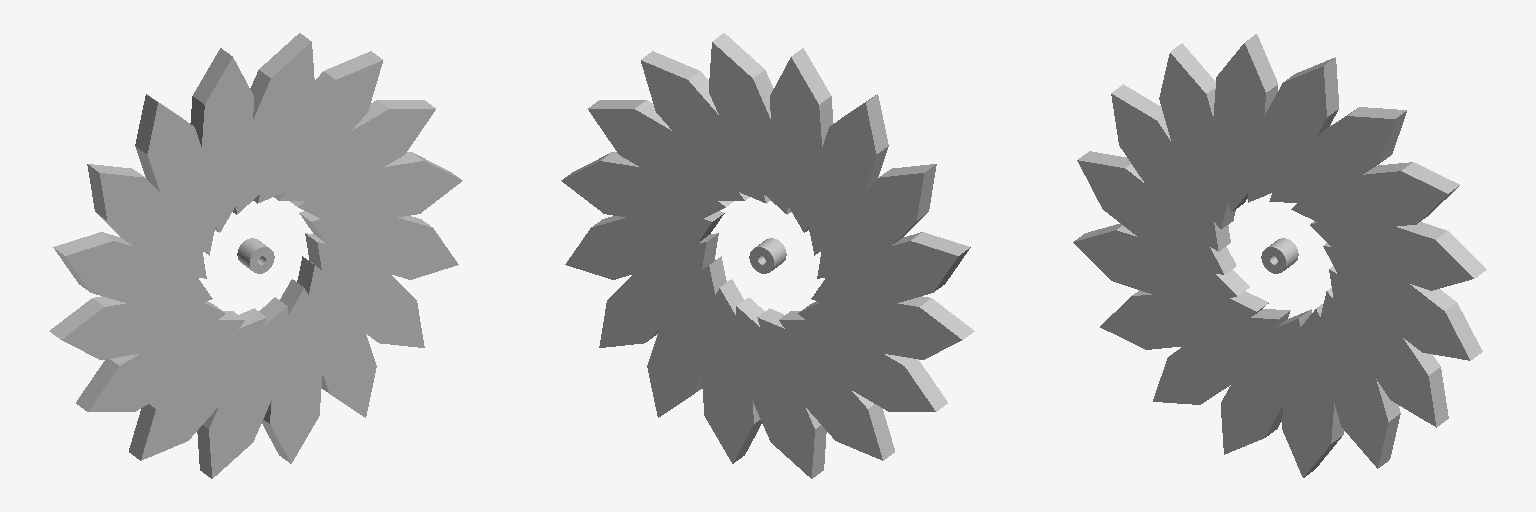
The model's file is tinker 1.obj.
The picture shows the model from 3 angles: view 1: azimuth 30°, elevation 25°; view 2: azimuth 150°, elevation 25°; view 3: azimuth 330°, elevation 25°; orthographic projection.
Parts seen in each view (by area): view 1: obj_0; view 2: obj_0; view 3: obj_0.
Part boxes in pixels (x1,y1,x2,y2): obj_0: (49, 33, 462, 478); obj_0: (561, 33, 974, 478); obj_0: (1073, 34, 1486, 477).
Size of the model in its own units: 18.78 by 18.85 by 1.